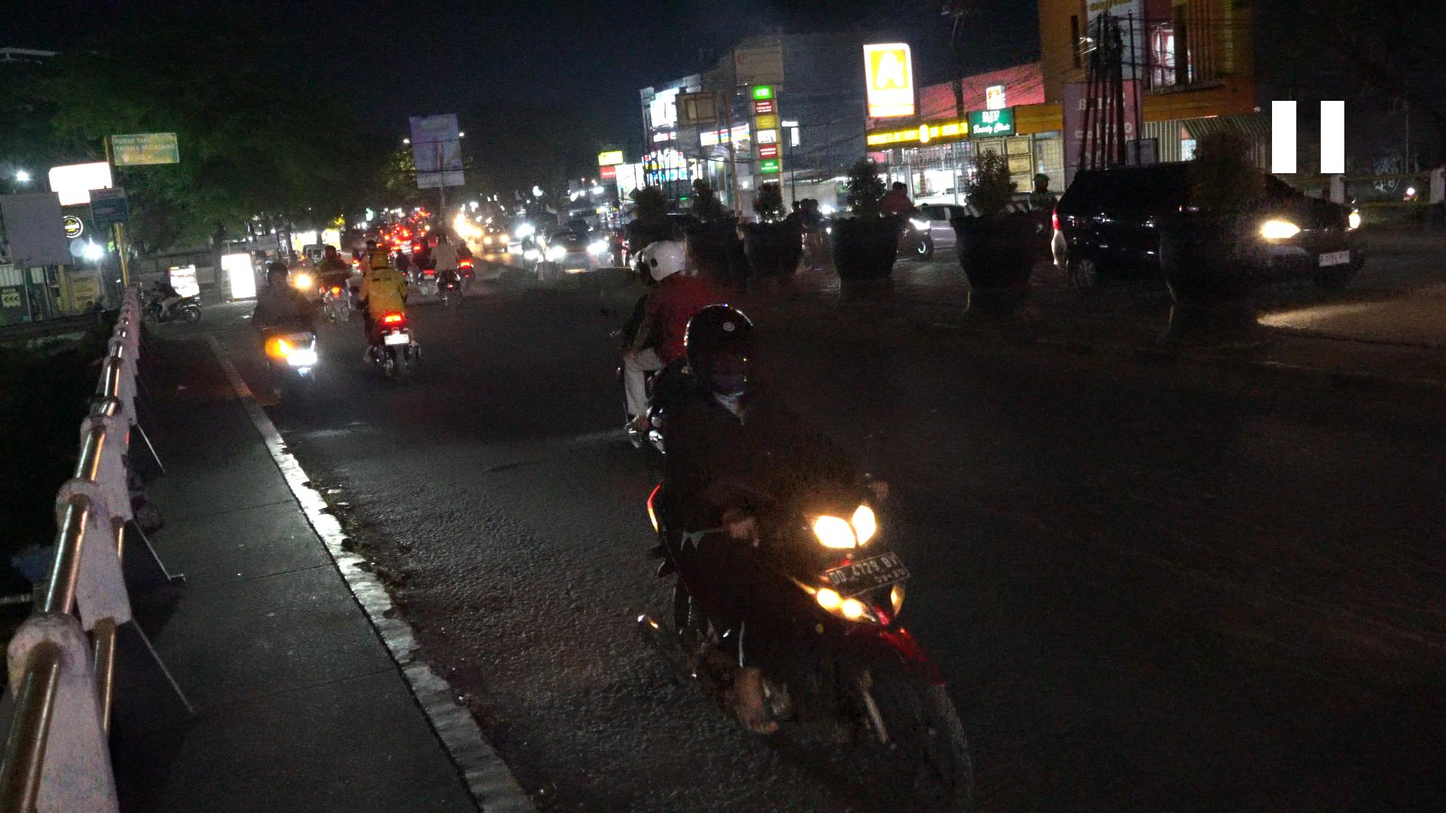number-plate: (825, 552, 912, 603)
